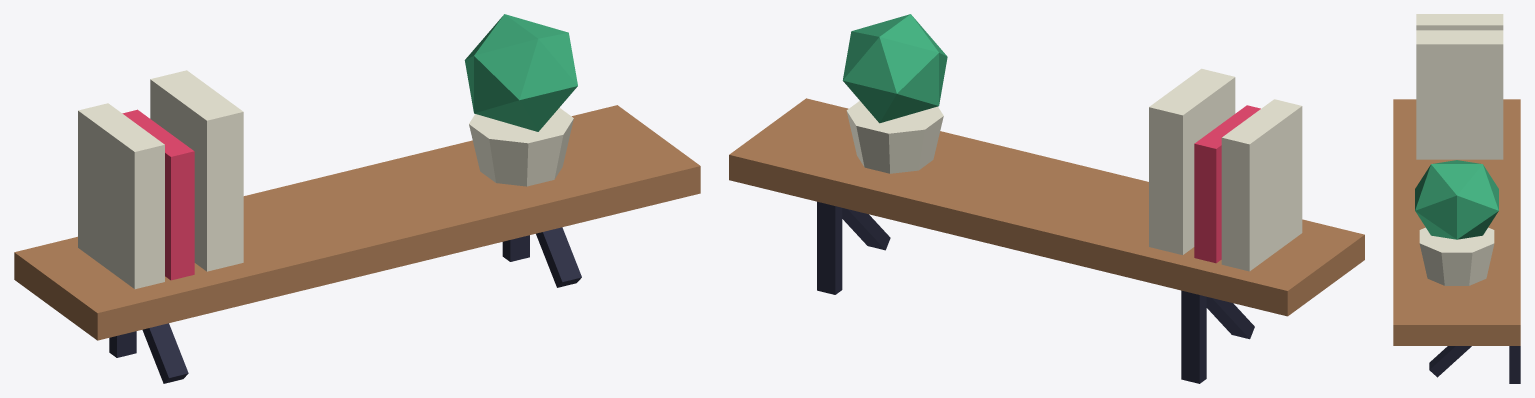
The model's file is wall_shelf.c53b1958b2a4.glb.
3 views of the same model, side by side, from view 1: azimuth 30°, elevation 25°; view 2: azimuth 150°, elevation 25°; view 3: azimuth 270°, elevation 25° (orthographic). The views are drawn at different scales.
Visible parts, largest first — view 1: wall_shelf; view 2: wall_shelf; view 3: wall_shelf.
Part boxes in pixels (x1,y1,x2,y2): wall_shelf: (14,14,700,383); wall_shelf: (729,14,1364,383); wall_shelf: (1393,14,1520,383).
Bounding box in the file's own units: 0.92 × 0.4 × 0.22.
